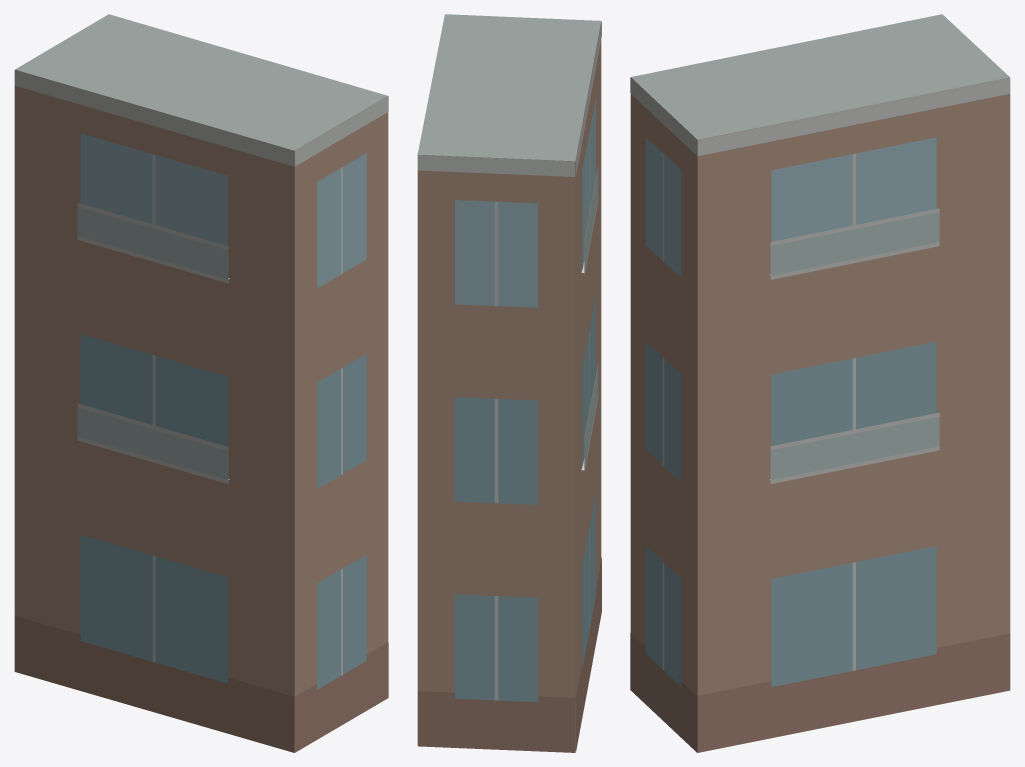
Rendered from survey-upis-32472081.glb.
3 views of the same model, side by side, from view 1: azimuth 30°, elevation 25°; view 2: azimuth 150°, elevation 25°; view 3: azimuth 270°, elevation 25° (orthographic). The views are drawn at different scales.
Visible parts, largest first — view 1: survey-upis-32472081.tmp; view 2: survey-upis-32472081.tmp; view 3: survey-upis-32472081.tmp.
Boxes of the visible parts, x1,y1,x2,y2 form: survey-upis-32472081.tmp: [14, 14, 388, 752]; survey-upis-32472081.tmp: [417, 14, 601, 752]; survey-upis-32472081.tmp: [630, 14, 1010, 752].
Bounding box in the file's own units: 4.04 × 9.15 × 5.15.
